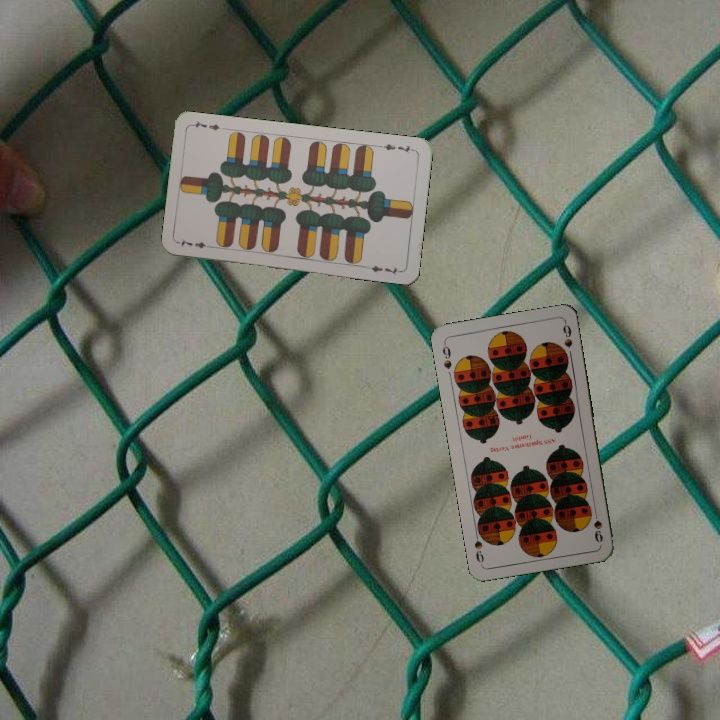E7: (376, 140, 417, 156), (176, 235, 216, 251)
S9: (590, 505, 605, 545), (438, 339, 454, 372)
